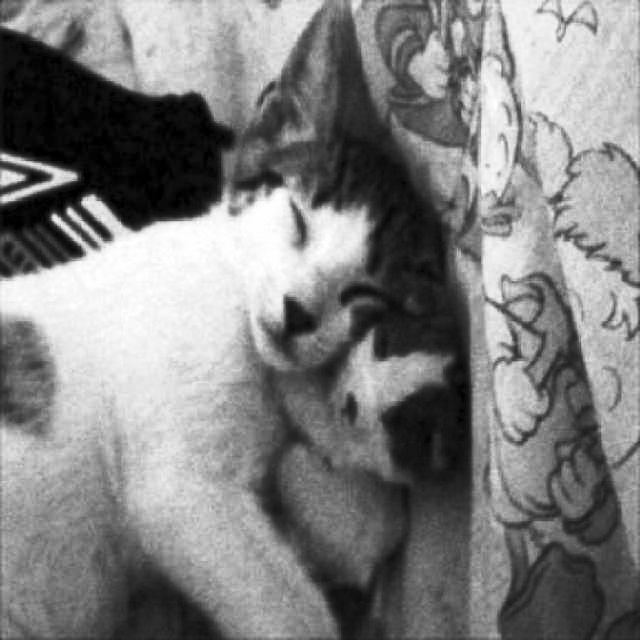Cat: (0, 81, 461, 640)
